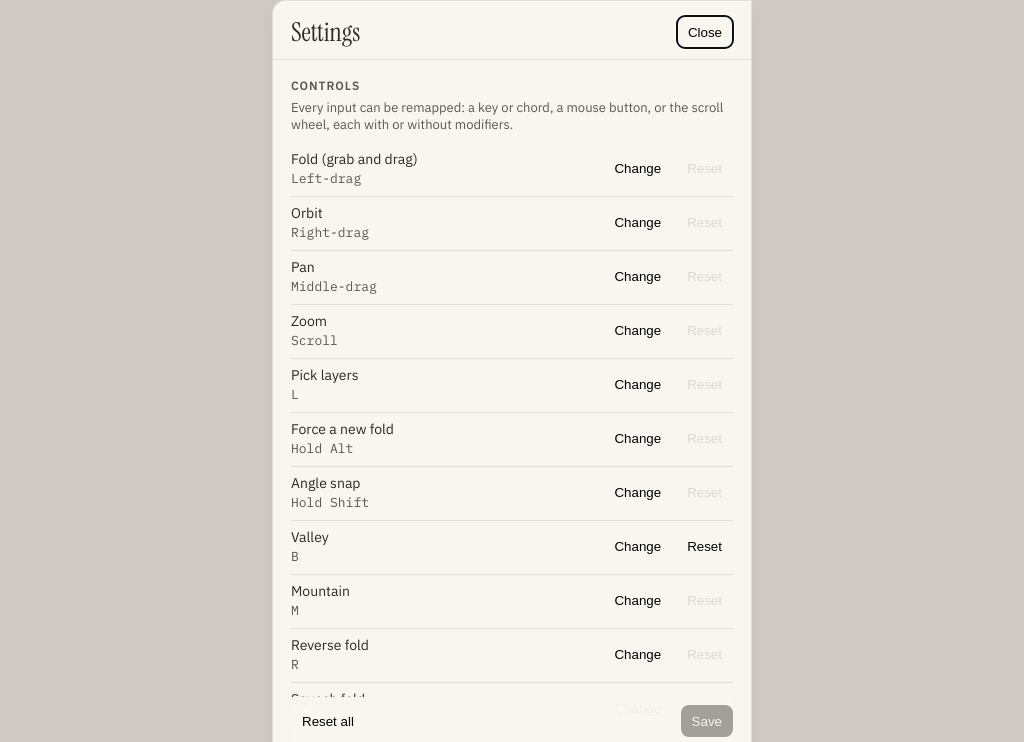
Test case: settings sheet: controls › reset one restores its default; Reset all restores every default at once
The width and height of the screenshot is (1024, 742).
Check: the text "B" is shown, box left=291, top=548, right=299, bottom=565
Click the button with aria-label "Reset Valley": (705, 546) left=676, top=530, right=733, bottom=562
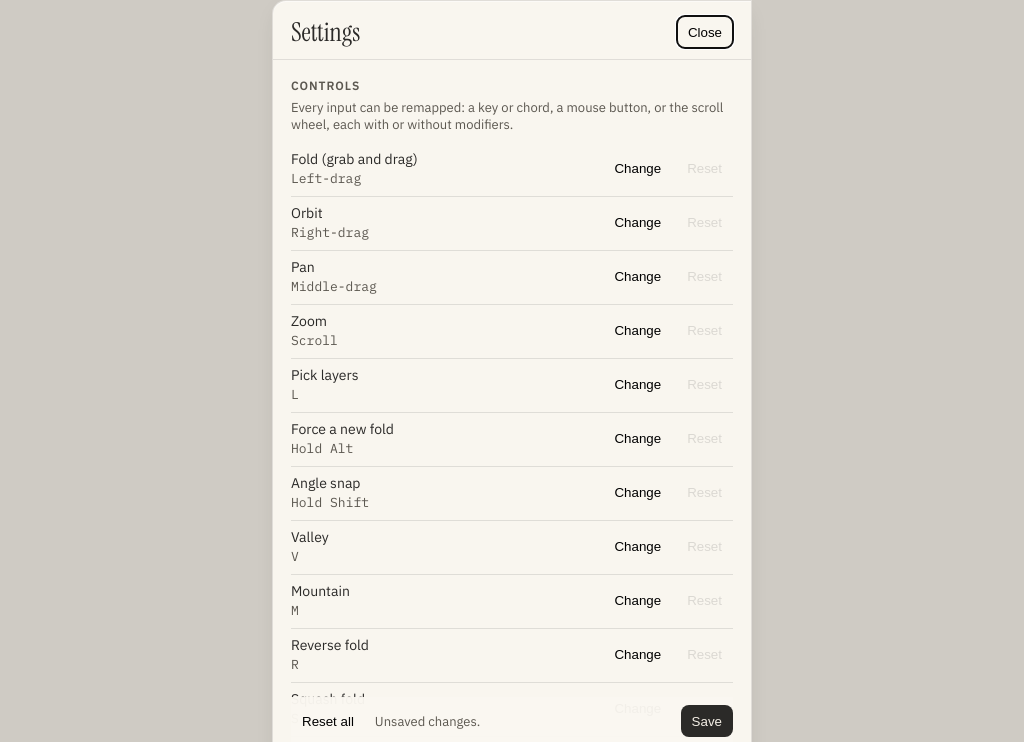
Check: the text "V" is shown, box left=291, top=548, right=299, bottom=565
Click the button with aria-label "Change Mountain": (638, 600) left=604, top=584, right=672, bottom=616
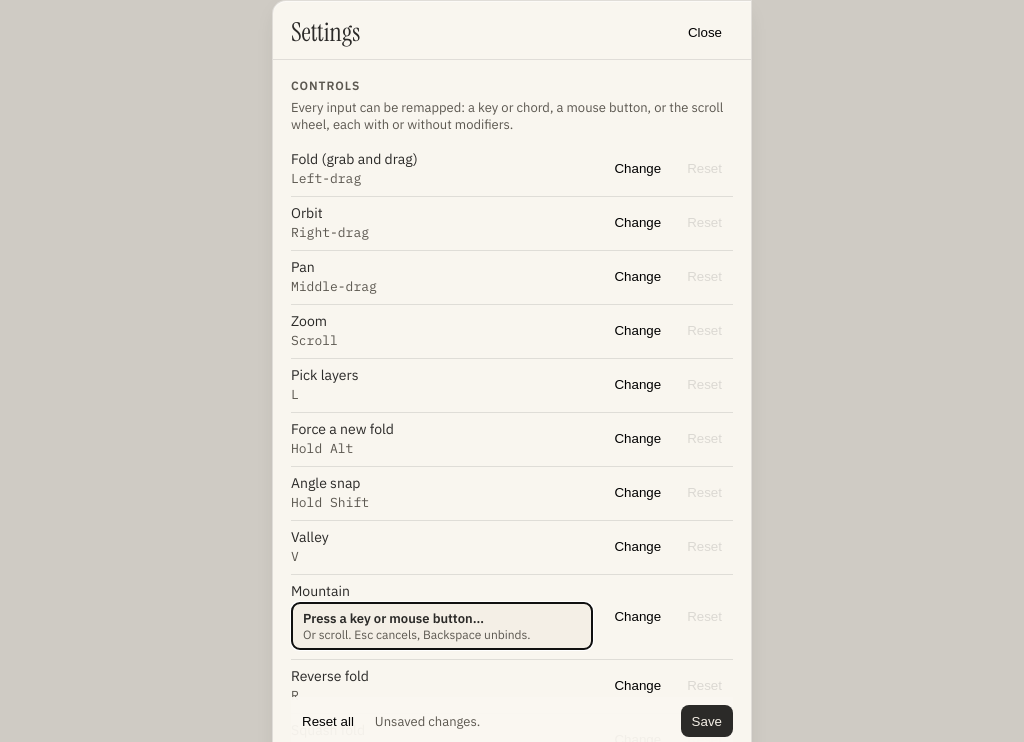
Press x in the element named "New binding for Mountain", box left=291, top=602, right=594, bottom=650
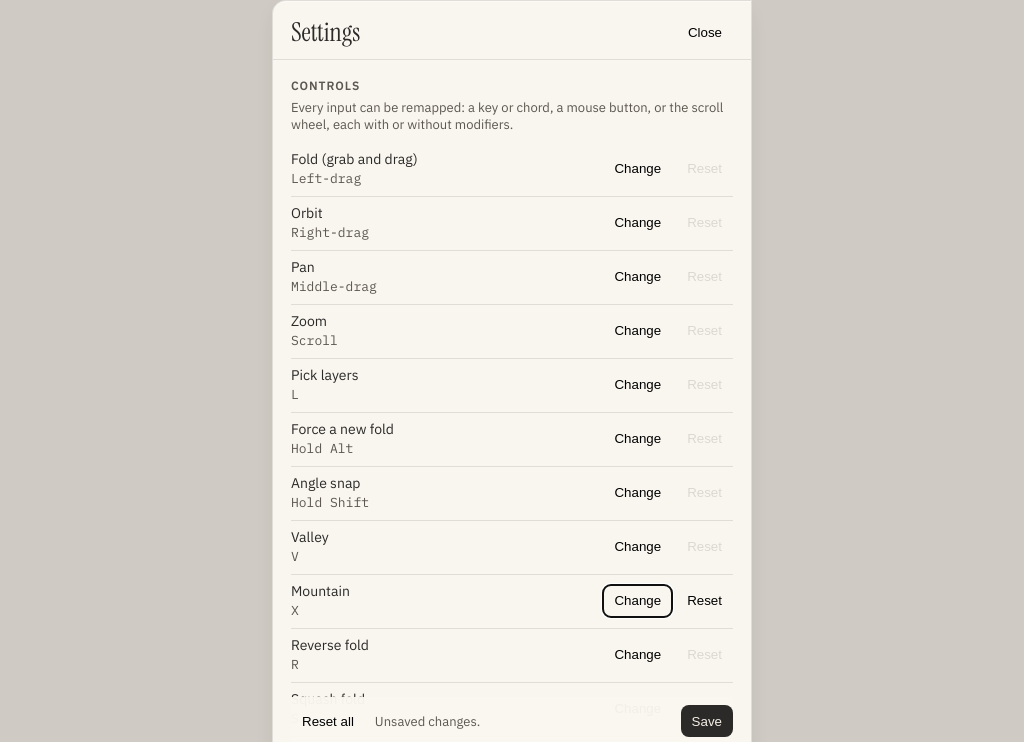
Click the button "Save": (707, 721) left=681, top=705, right=733, bottom=737
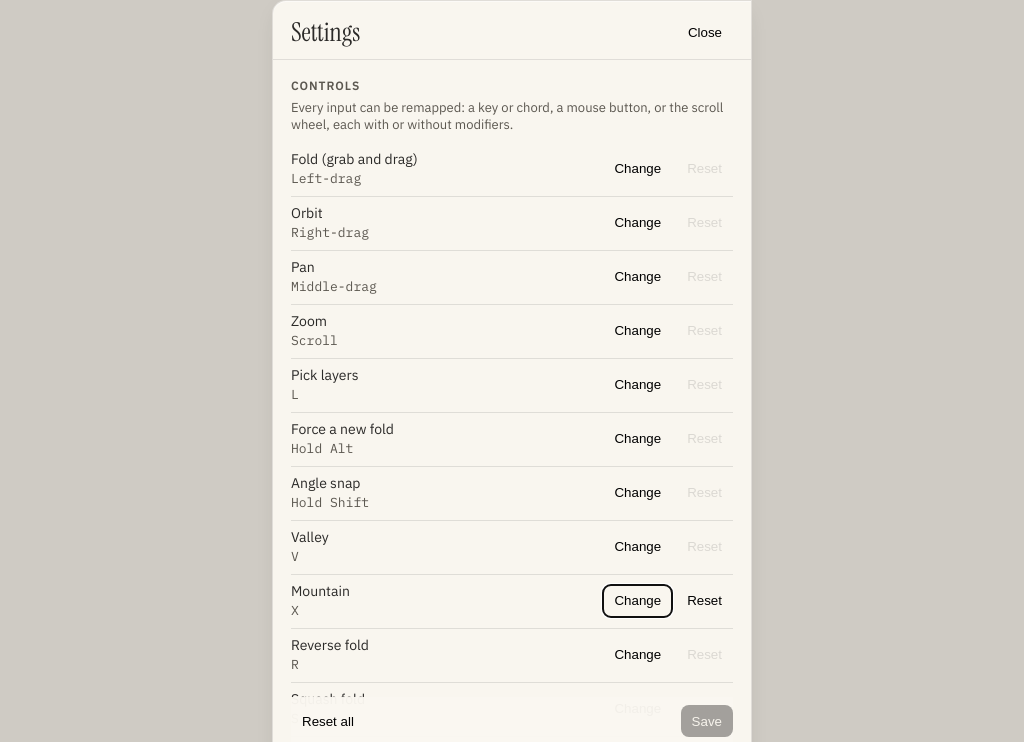
Click the button "Reset all": (328, 721) left=291, top=705, right=365, bottom=737
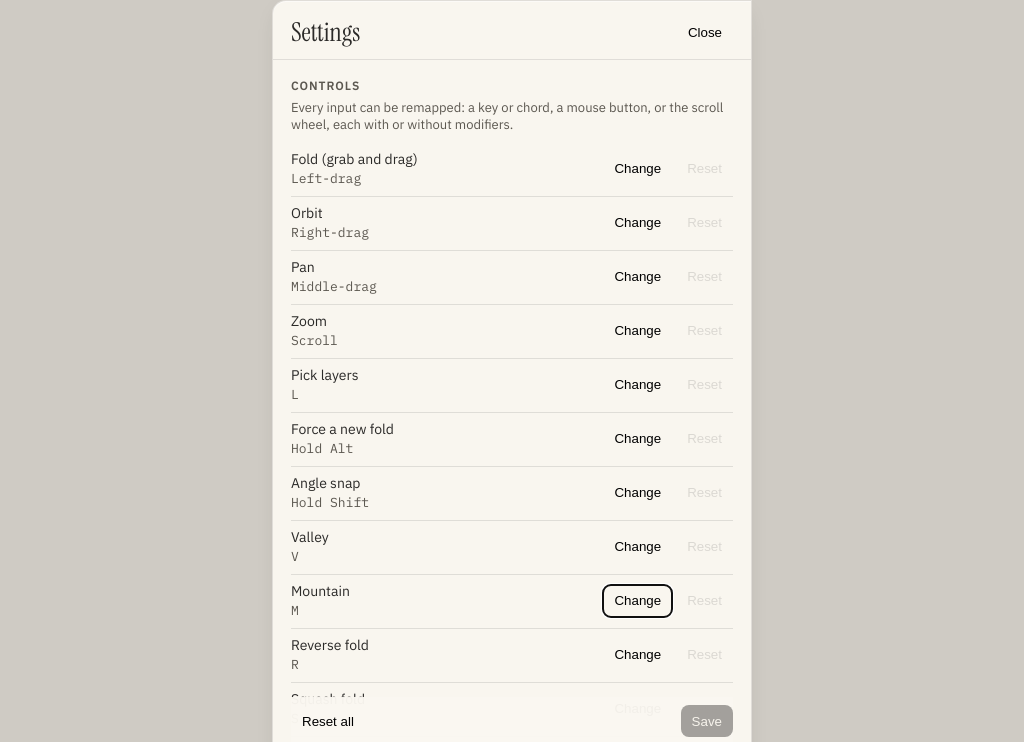
Check: the text "M" is shown, box left=291, top=602, right=299, bottom=619
